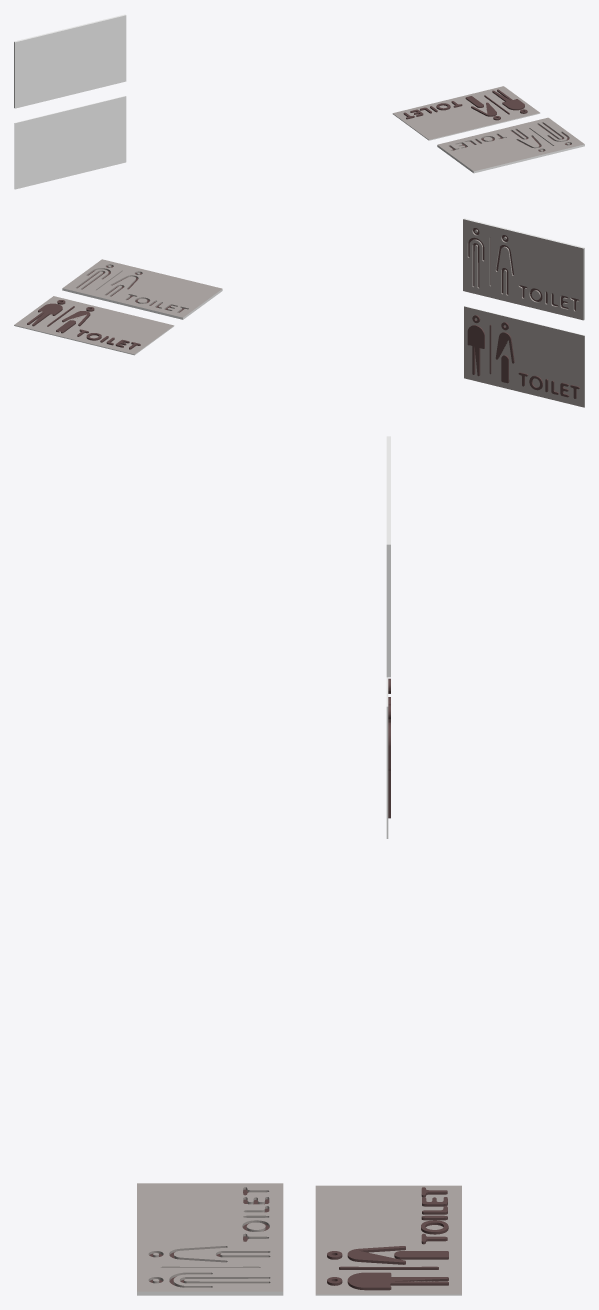
File: Toilet Sign Design.fbx
The picture shows the model from 3 angles, top to bottom: view 1: azimuth 30°, elevation 25°; view 2: azimuth 150°, elevation 25°; view 3: azimuth 270°, elevation 25°; orthographic projection. The views are drawn at different scales.
Parts seen in each view (by area): view 1: Group1, Group5, Group6, Group3, Group2, TOILET1; view 2: Group1, Group5, Group6, Group3, Group4, Group2, TOILET2, TOILET1; view 3: Group6, Group3, Group2, Group1, TOILET1.
Boxes of the visible parts, left/top/right/bottom form: Group1: left=14, top=14, right=126, bottom=108; Group5: left=14, top=96, right=126, bottom=189; Group6: left=437, top=117, right=584, bottom=173; Group3: left=392, top=86, right=540, bottom=140; Group2: left=465, top=89, right=527, bottom=120; TOILET1: left=403, top=101, right=462, bottom=119; Group1: left=463, top=218, right=584, bottom=320; Group5: left=464, top=306, right=584, bottom=407; Group6: left=62, top=259, right=222, bottom=319; Group3: left=14, top=296, right=174, bottom=355; Group4: left=467, top=315, right=514, bottom=383; Group2: left=27, top=300, right=94, bottom=333; TOILET2: left=518, top=372, right=579, bottom=398; TOILET1: left=77, top=329, right=140, bottom=349; Group6: left=137, top=1183, right=283, bottom=1295; Group3: left=315, top=1185, right=461, bottom=1295; Group2: left=327, top=1246, right=448, bottom=1290; Group1: left=386, top=436, right=390, bottom=677; TOILET1: left=421, top=1187, right=448, bottom=1244.
Size of the model in its own units: 1306 by 448 by 362.
